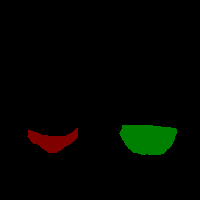mutande: (119, 124, 177, 155), (27, 127, 78, 153)
